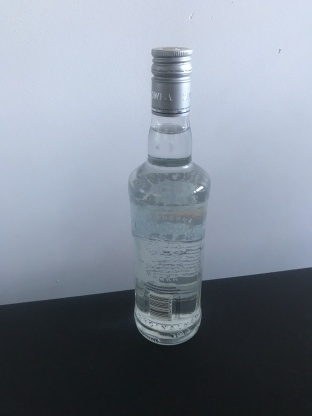nakretka: (149, 44, 194, 118)
